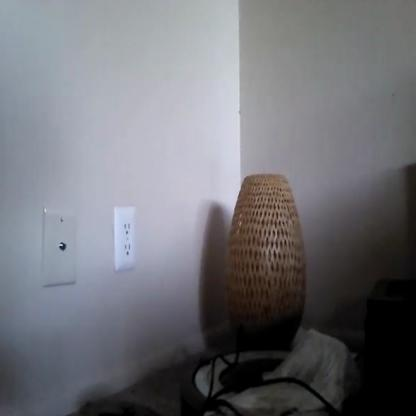OUTLET: (114, 206, 136, 270)
